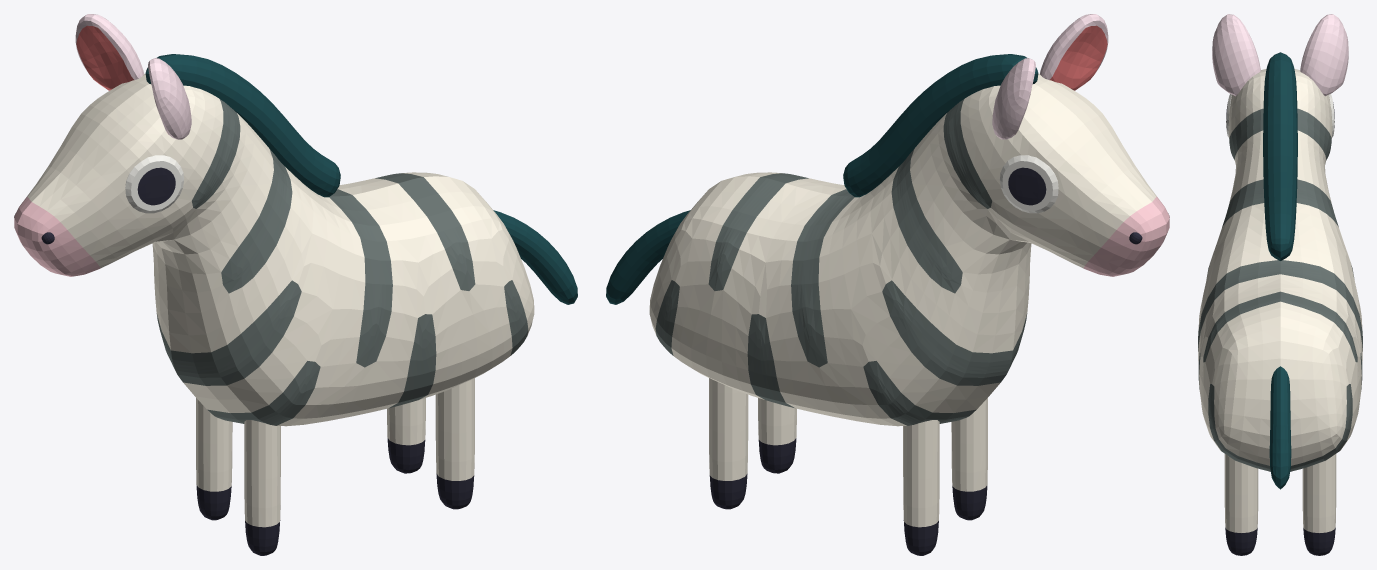
File: Zebra_LOD0.fbx
The picture shows the model from 3 angles, left to right: view 1: azimuth 30°, elevation 25°; view 2: azimuth 150°, elevation 25°; view 3: azimuth 270°, elevation 25°; orthographic projection. The views are drawn at different scales.
Parts seen in each view (by area): view 1: Mesh; view 2: Mesh; view 3: Mesh.
Part boxes in pixels (x1,y1,x2,y2): Mesh: [14, 14, 577, 555]; Mesh: [606, 14, 1169, 555]; Mesh: [1198, 14, 1362, 555].
Bounding box in the file's own units: 341 × 307 × 109.
1 material, 1 textured.
